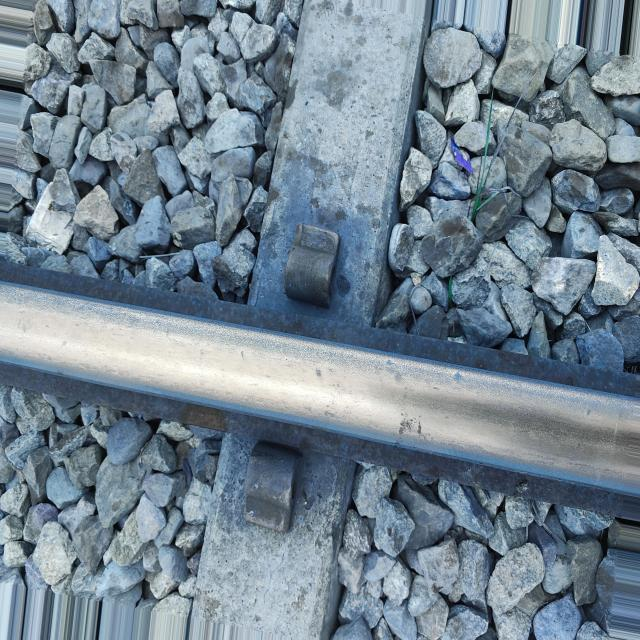Missing Fastener: (206, 435, 329, 560), (264, 199, 377, 318)
